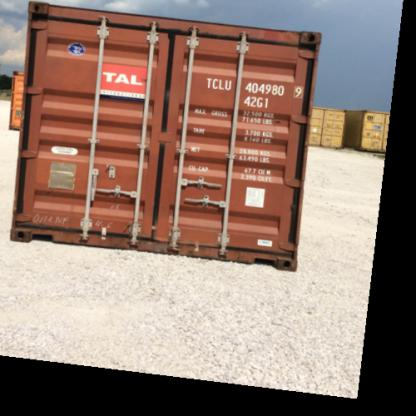Damage: (128, 207, 170, 250)
